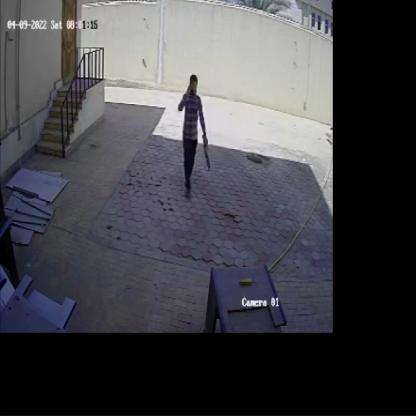handgun: (201, 132, 213, 170)
